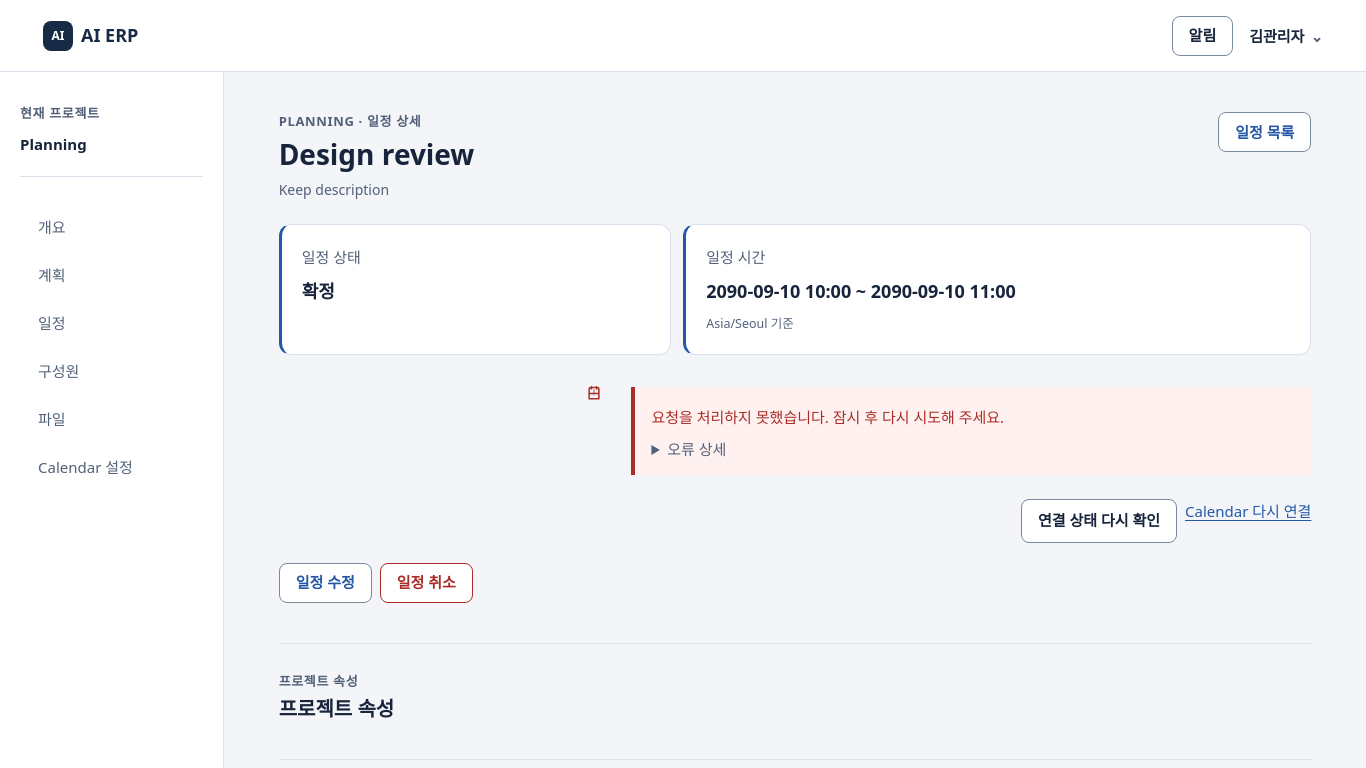
Test case: Calendar keeps reconnect available when the other query fails
Check: the link "Calendar 다시 연결" is shown, box x1=1185 y1=501 x2=1311 y2=521
Click the button named "Calendar: 오류 확인 필요": (594, 393) x1=572 y1=371 x2=616 y2=415
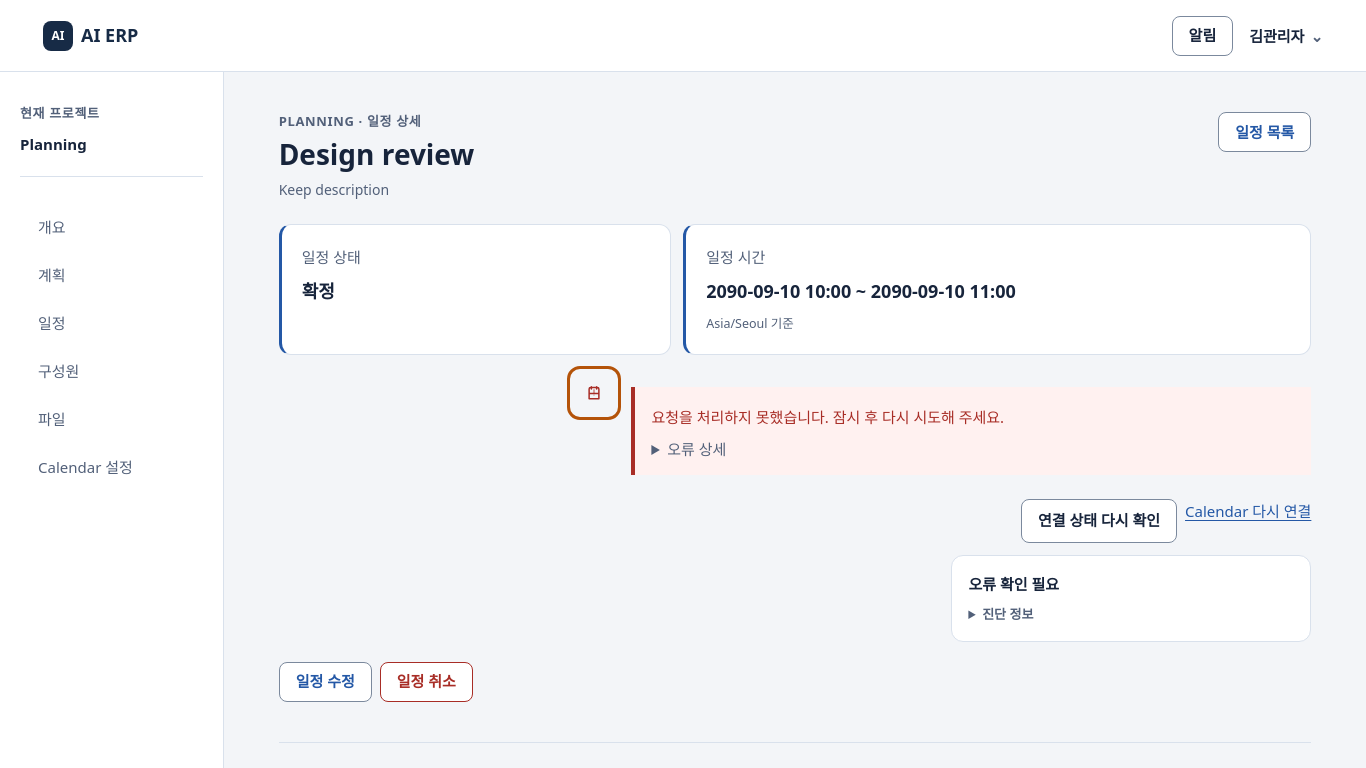
Check: the text "오류 확인 필요" is shown, box x1=968 y1=574 x2=1059 y2=594
